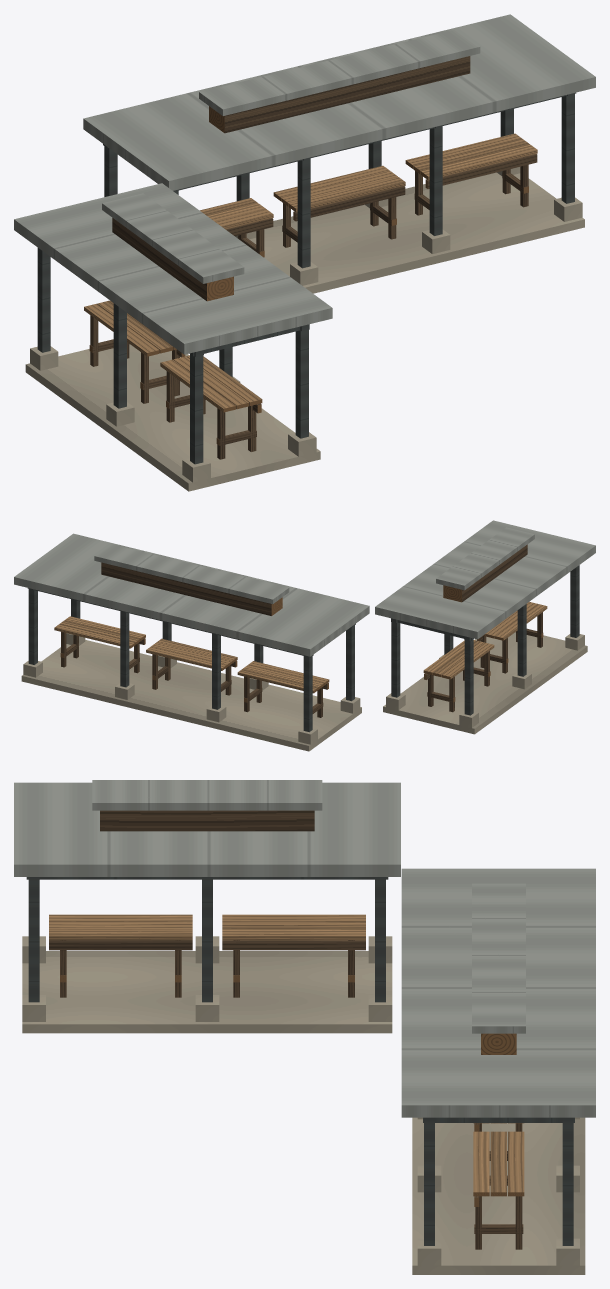
The model's file is gusau.glb.
The picture shows the model from 3 angles, top to bottom: view 1: azimuth 30°, elevation 25°; view 2: azimuth 150°, elevation 25°; view 3: azimuth 270°, elevation 25°; orthographic projection. The views are drawn at different scales.
Visible parts, largest first — view 1: gusau; view 2: gusau; view 3: gusau.
Part boxes in pixels (bbox=[...]): gusau: bbox=[14, 14, 595, 491]; gusau: bbox=[14, 520, 595, 751]; gusau: bbox=[14, 780, 595, 1274].
Bounding box in the file's own units: 7.4 × 2.19 × 5.64.
1 material, 1 textured.
